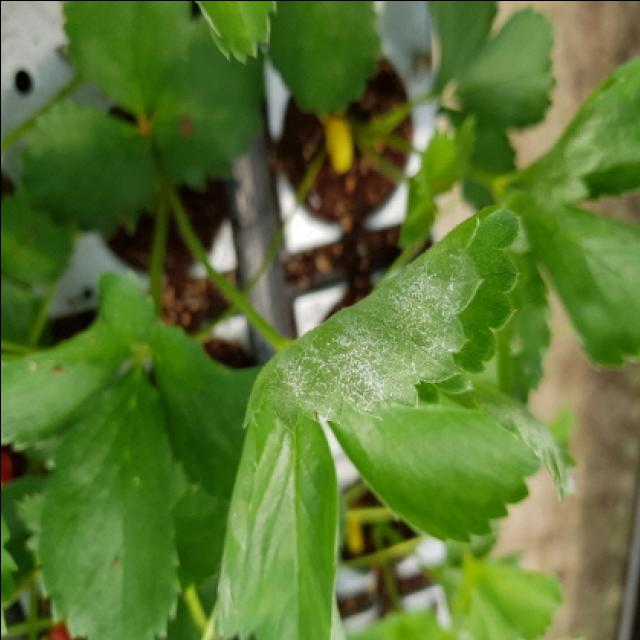Powdery Mildew Leaf: (239, 202, 521, 425)
